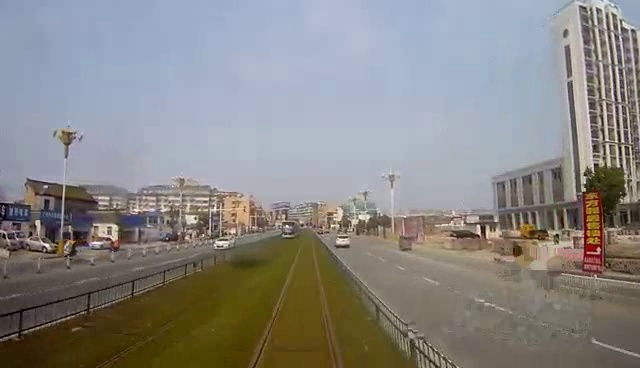car: (18, 234, 64, 256), (84, 235, 115, 250), (212, 237, 244, 251), (335, 233, 358, 248)
